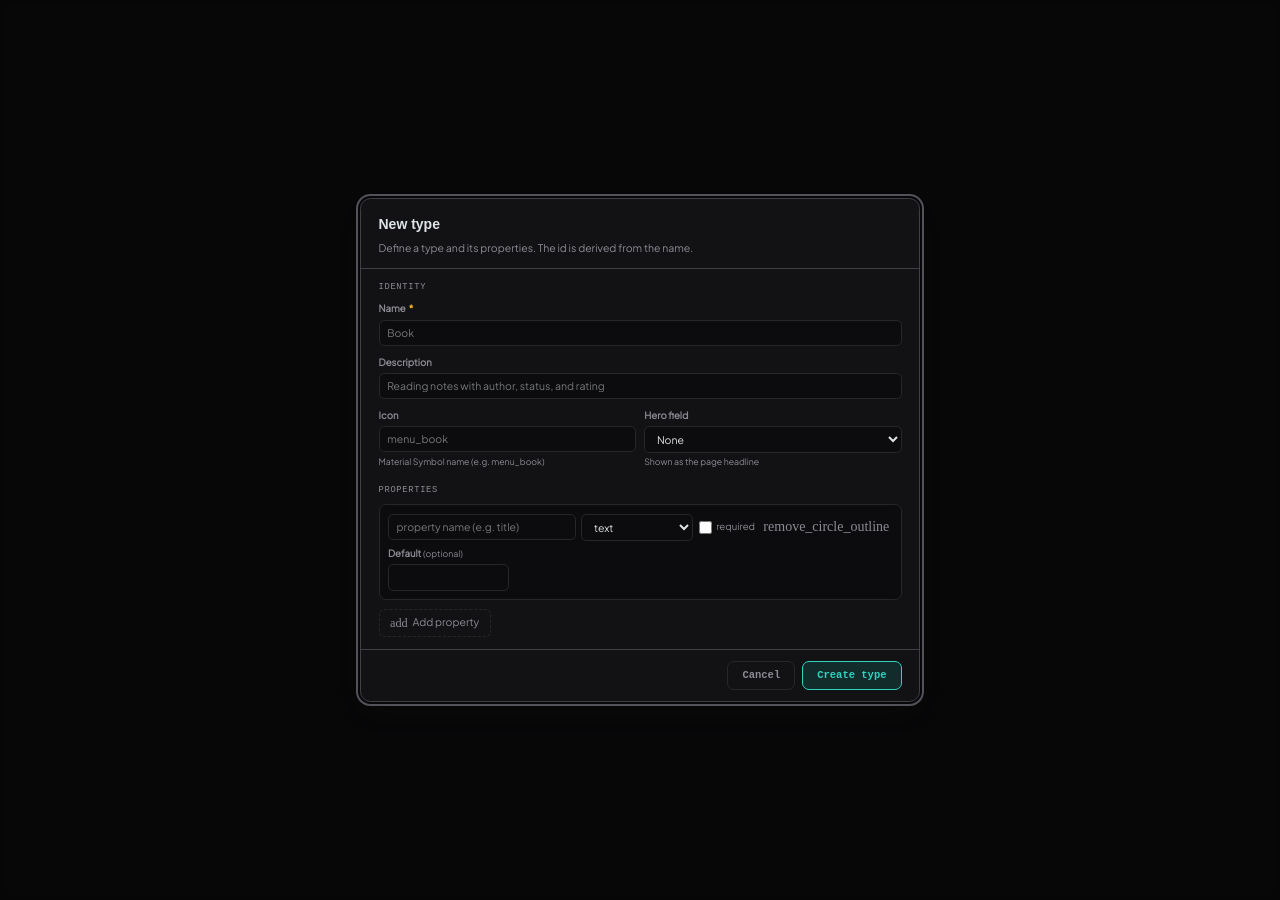
Test: TypeEditorDialog — property row editor › shows the options input when type is select
Select "select" in the dropdown named "Property 1 type". click: (637, 527)
box: [581, 514, 693, 540]
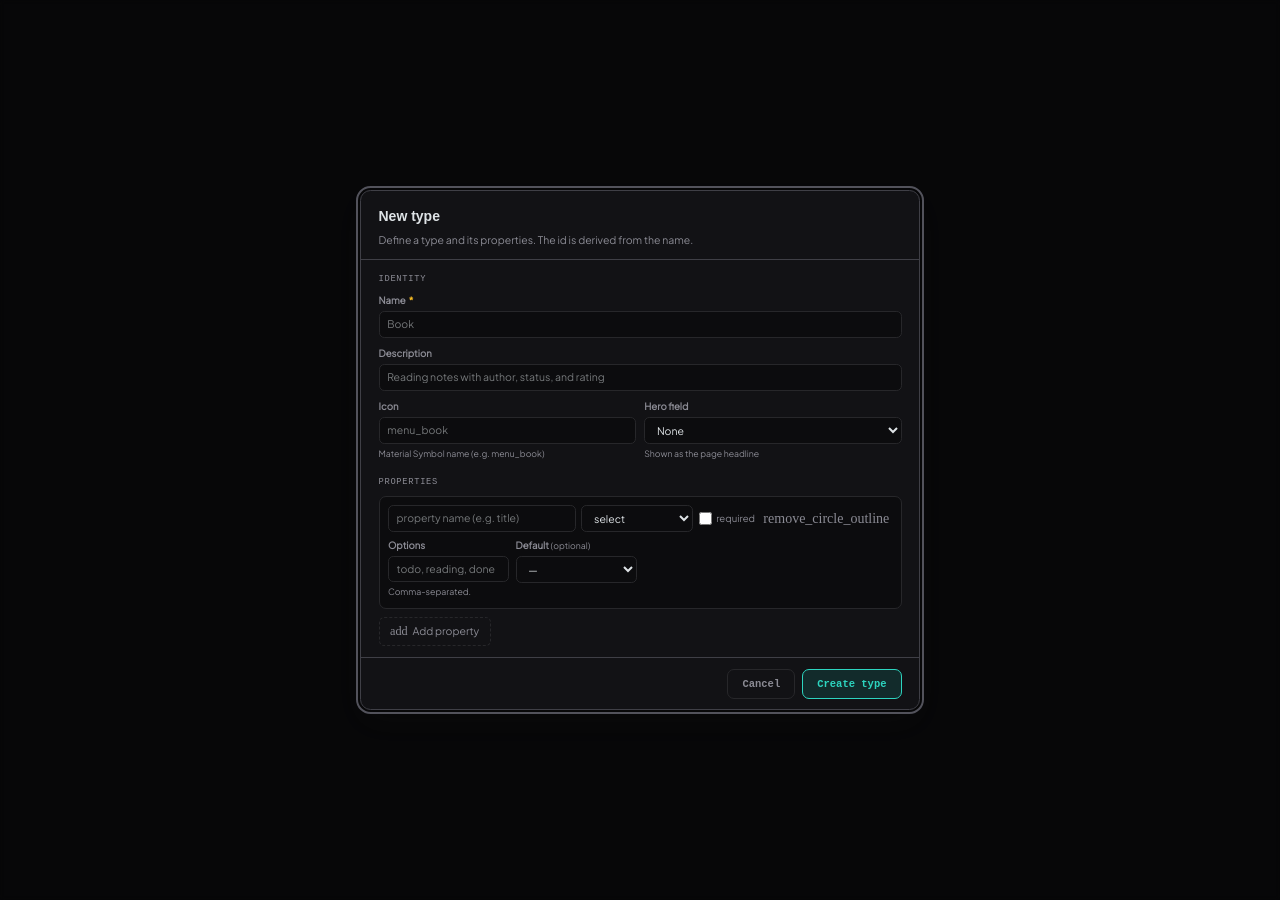
Check: the field with id "te-opts-1" is shown, box [388, 556, 509, 582]
